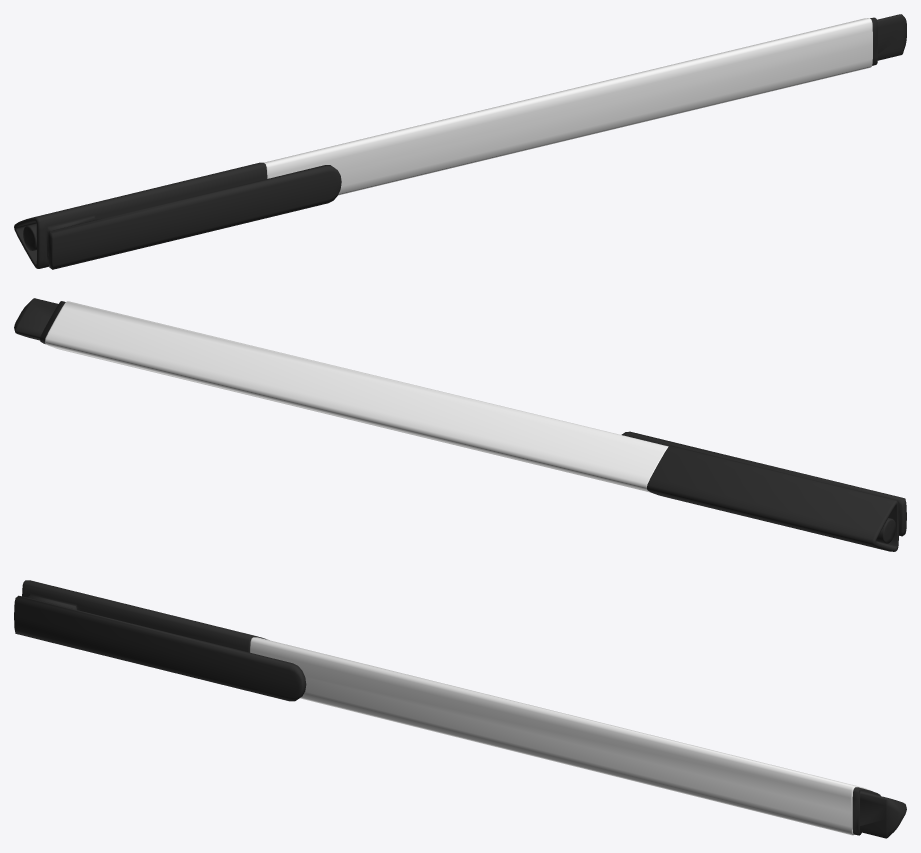
Rendered from Pencil.FBX.
3 views of the same model, one above another, from view 1: azimuth 30°, elevation 25°; view 2: azimuth 150°, elevation 25°; view 3: azimuth 330°, elevation 25° (orthographic).
Visible parts, largest first — view 1: Pencil; view 2: Pencil; view 3: Pencil.
Part boxes in pixels (<box>): Pencil: <box>14,14,906,269</box>; Pencil: <box>14,298,906,551</box>; Pencil: <box>14,580,906,838</box>.
Size of the model in its own units: 15.67 by 0.8904 by 1.13.
1 material, 1 textured.
